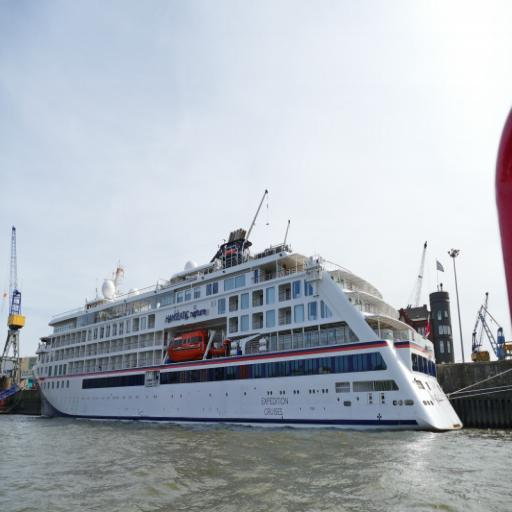cruises: (30, 226, 466, 439)
